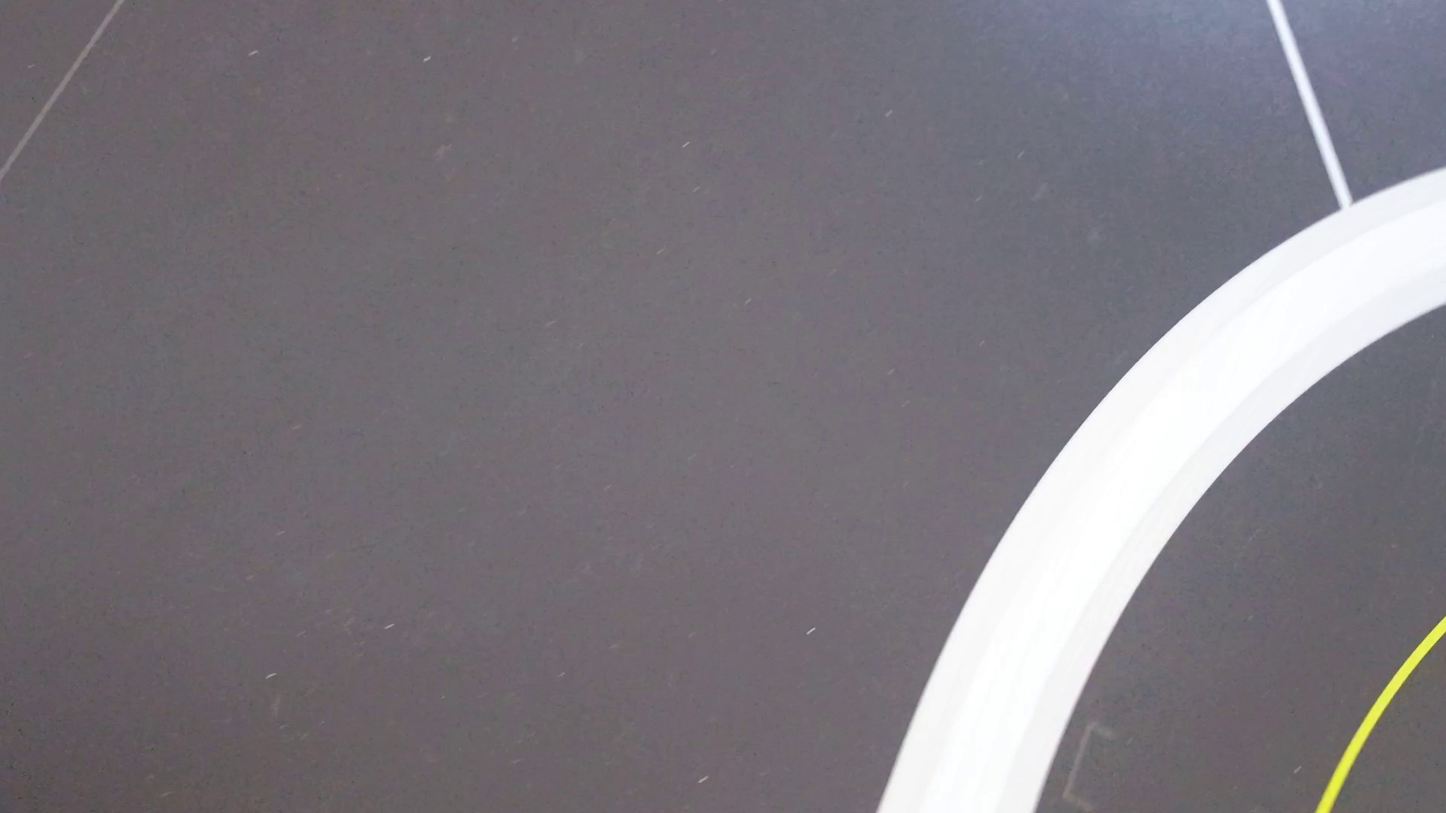Parking: (1270, 0, 1445, 210)
Solid: (1315, 617, 1445, 812)
Street: (0, 0, 1445, 812), (1037, 308, 1445, 812), (1038, 309, 1445, 812)
